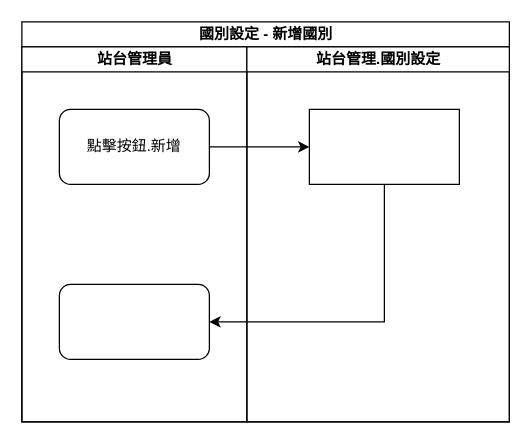
Some shapes in this 531 by 444 pixel diagram are drawn without their labels. Each missing label, with the centre of its shape:
開啟新增國別畫面: the point at 383,146
顯示畫面: the point at 133,321
